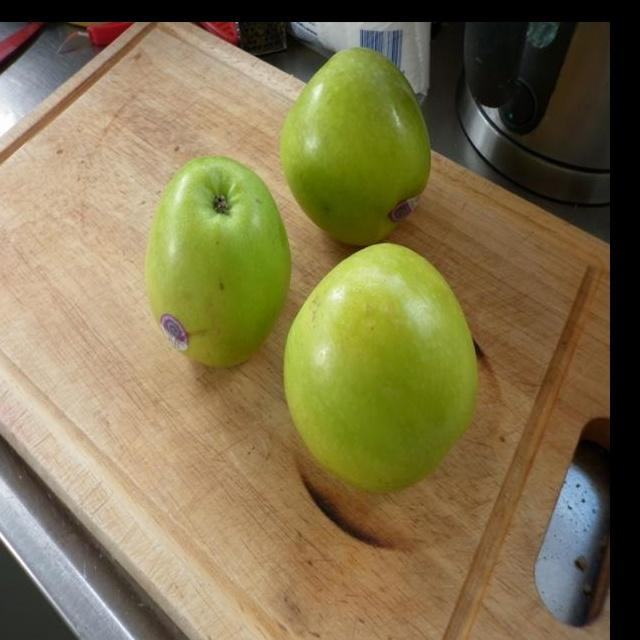green apple: (278, 244, 485, 505), (284, 44, 439, 253), (142, 153, 293, 363)
